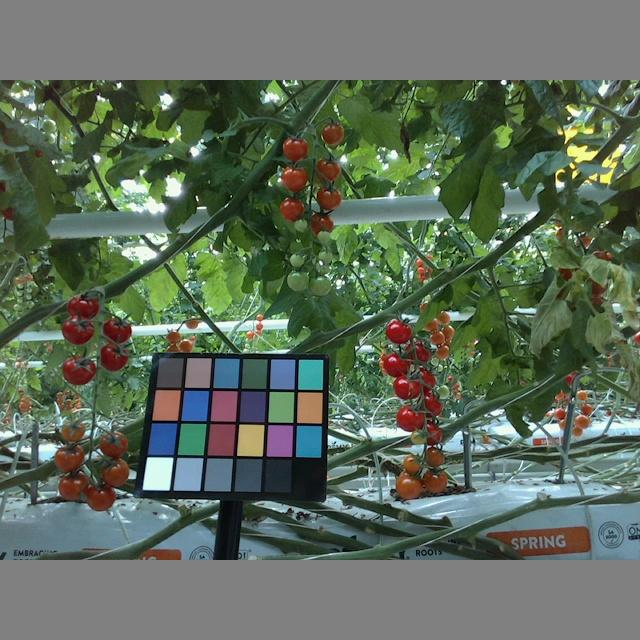green: (285, 270, 308, 291), (314, 275, 332, 298), (318, 251, 334, 264), (318, 230, 331, 245), (291, 252, 305, 265), (294, 221, 307, 233)
pink: (94, 457, 131, 486), (54, 445, 87, 474), (97, 430, 129, 457), (87, 484, 116, 513), (397, 471, 421, 499), (283, 136, 308, 161), (316, 158, 339, 185), (58, 477, 86, 499), (283, 166, 307, 191), (315, 188, 343, 209), (321, 122, 347, 144), (59, 421, 87, 441), (279, 199, 304, 221), (423, 470, 449, 491), (312, 212, 335, 233), (404, 456, 422, 472), (411, 430, 425, 445)
red: (60, 356, 98, 386), (63, 319, 97, 344), (382, 352, 412, 377), (66, 295, 101, 316), (388, 315, 414, 343), (103, 319, 133, 343), (102, 346, 127, 373), (396, 406, 422, 430), (394, 376, 421, 399), (409, 340, 431, 362), (424, 393, 444, 416)
